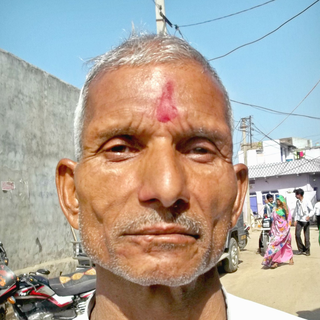eye: (94, 135, 143, 161), (178, 134, 221, 163)
